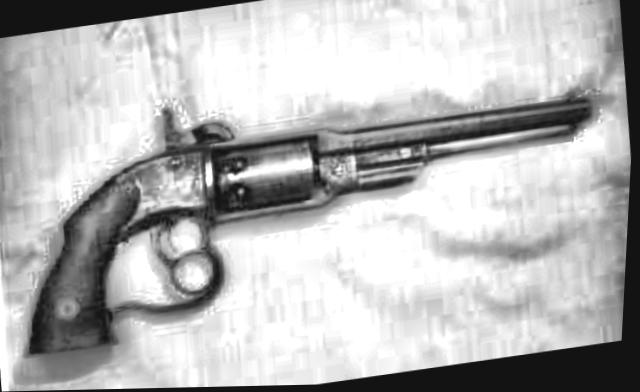pistol: (0, 32, 620, 360)
